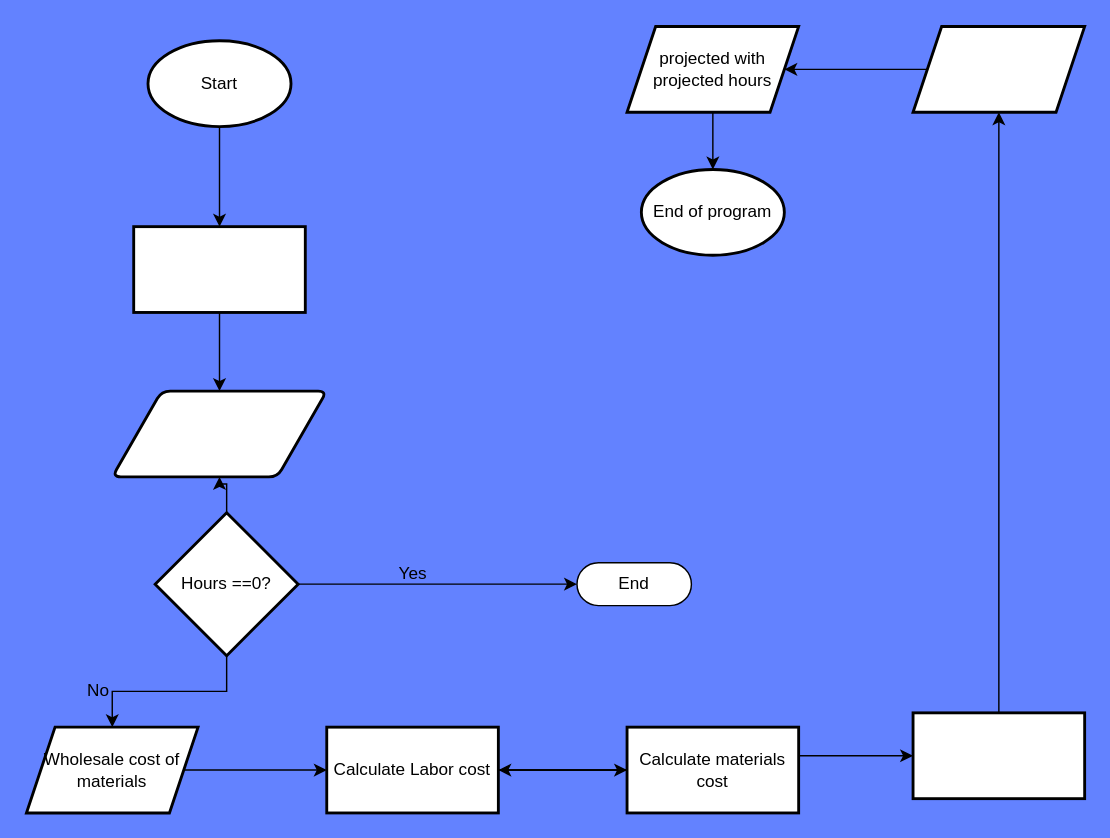
The diagram is 1110 pixels wide and 838 high, and some of its shapes have lost their labels. Here are the shapes that lost their labels. From the top down, the box of each, then its label:
(911, 24, 1085, 113): Display Total Cost
(132, 225, 306, 313): Initialize Labor Cost ($30)
(110, 389, 327, 478): Input projected hours
(911, 711, 1085, 799): Calculate Total cost
